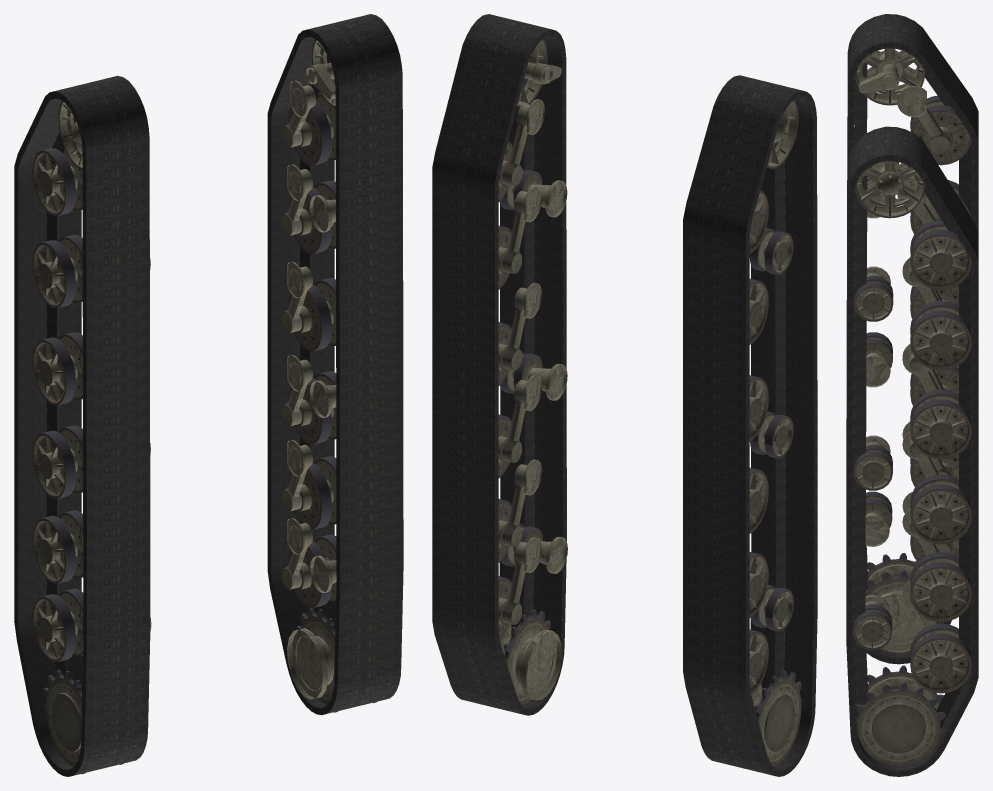
File: Chassis.glb
The picture shows the model from 3 angles, left to right: view 1: azimuth 30°, elevation 25°; view 2: azimuth 150°, elevation 25°; view 3: azimuth 270°, elevation 25°; orthographic projection. The views are drawn at different scales.
Parts seen in each view (by area): view 1: set_1_group_0, set_0_group_0, set_3_group_0, set_2_group_0; view 2: set_1_group_0, set_0_group_0, set_3_group_0, set_2_group_0; view 3: set_3_group_0, set_0_group_0, set_2_group_0, set_1_group_0.
Part boxes in pixels (x1,y1,x2,y2): set_1_group_0: [14, 75, 150, 776]; set_0_group_0: [267, 14, 403, 715]; set_3_group_0: [281, 39, 390, 712]; set_2_group_0: [32, 101, 151, 774]; set_1_group_0: [683, 75, 817, 776]; set_0_group_0: [432, 14, 566, 715]; set_3_group_0: [462, 39, 567, 711]; set_2_group_0: [713, 100, 801, 772]; set_3_group_0: [853, 161, 971, 766]; set_0_group_0: [846, 126, 978, 776]; set_2_group_0: [855, 48, 971, 653]; set_1_group_0: [846, 14, 978, 664].
Size of the model in its own units: 3.25 by 6.7 by 1.29.
4 materials, 4 textured.
